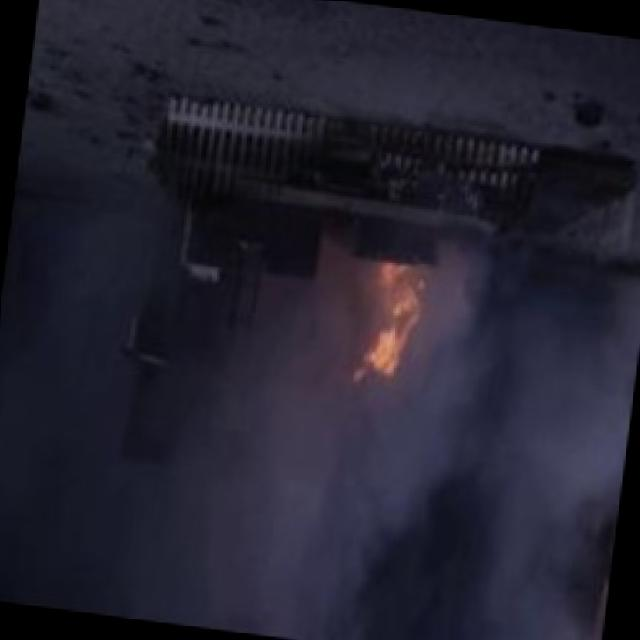fire: (334, 250, 438, 388)
smoke: (6, 349, 573, 640)
